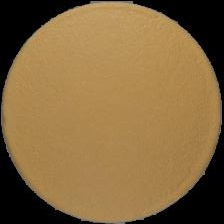68151-4634: (0, 0, 224, 224)
